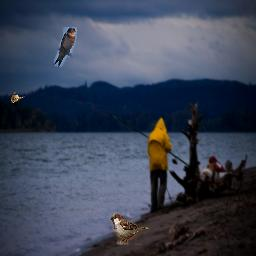Sparrow: (110, 213, 150, 245), (11, 92, 25, 103)
Swallow: (54, 27, 77, 67)
